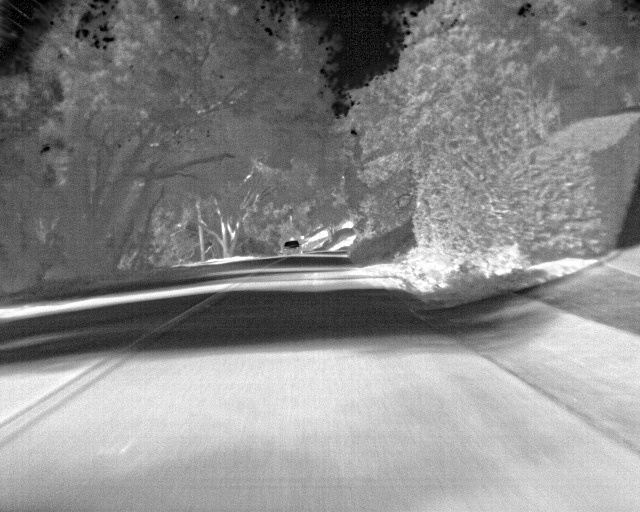vehicle: (280, 238, 303, 257)
